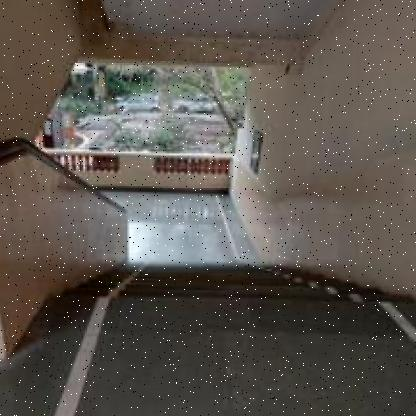stair_down: (106, 242, 367, 342)
